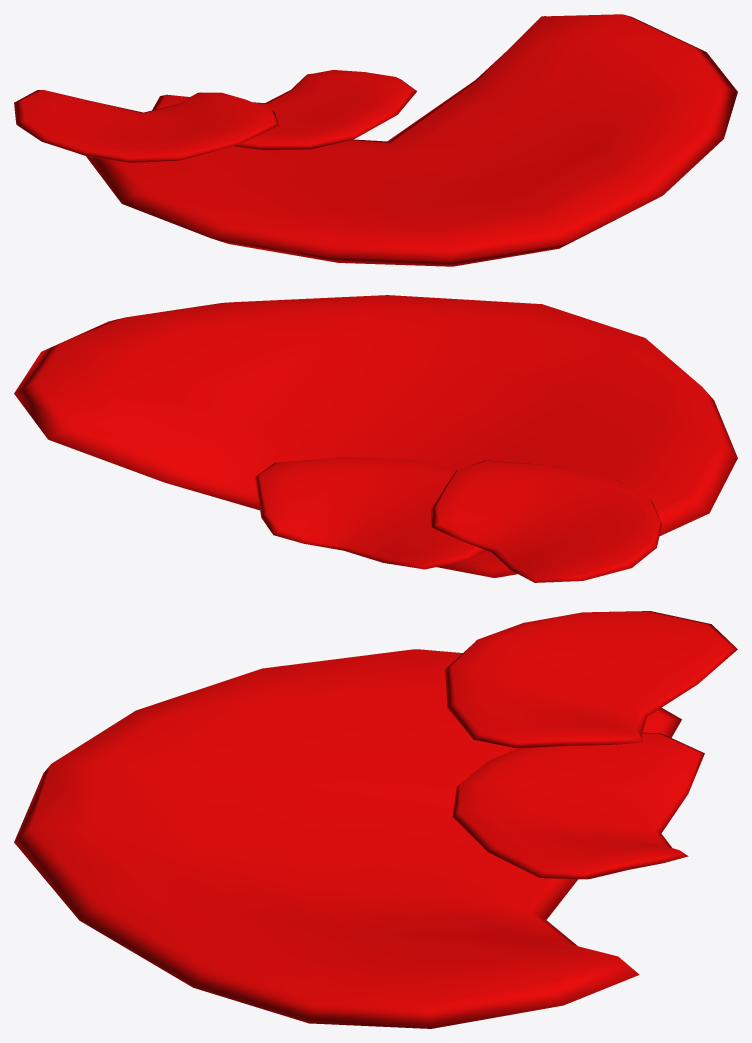
File: shelf_coral_001.fbx
3 views of the same model, one above another, from view 1: azimuth 30°, elevation 25°; view 2: azimuth 150°, elevation 25°; view 3: azimuth 270°, elevation 25° (orthographic). The views are drawn at different scales.
Visible parts, largest first — view 1: plate_coral_2_low; view 2: plate_coral_2_low; view 3: plate_coral_2_low.
Part boxes in pixels (x1=…): plate_coral_2_low: x1=14, y1=14, x2=737, y2=266; plate_coral_2_low: x1=14, y1=295, x2=737, y2=582; plate_coral_2_low: x1=14, y1=611, x2=737, y2=1028.
Size of the model in its own units: 134 by 16.24 by 103.
